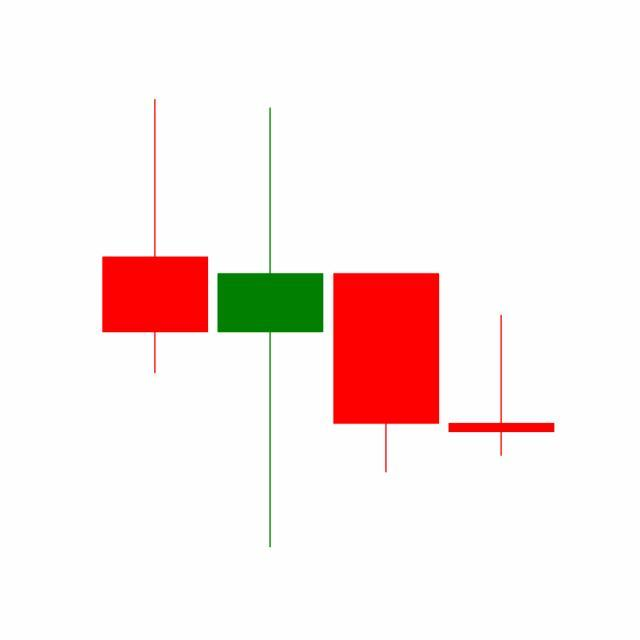Spinning Top: (444, 313, 560, 459)
